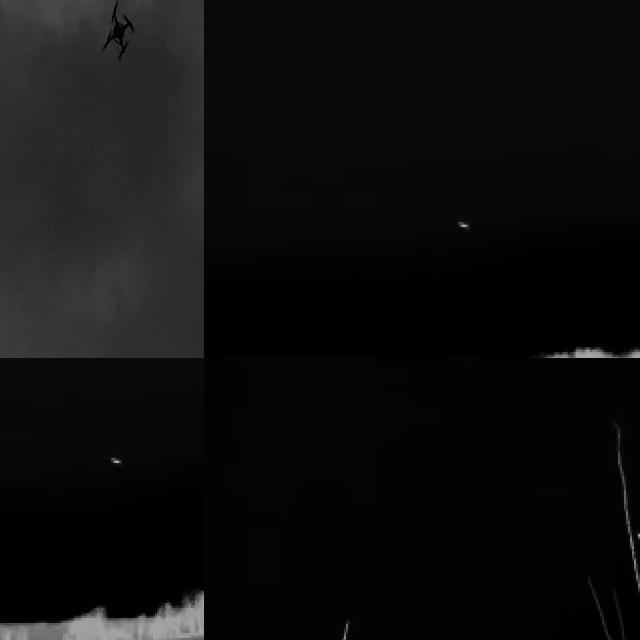0: (632, 526, 640, 549)
1: (100, 448, 134, 480), (448, 214, 480, 244)
drone: (100, 3, 138, 62)
